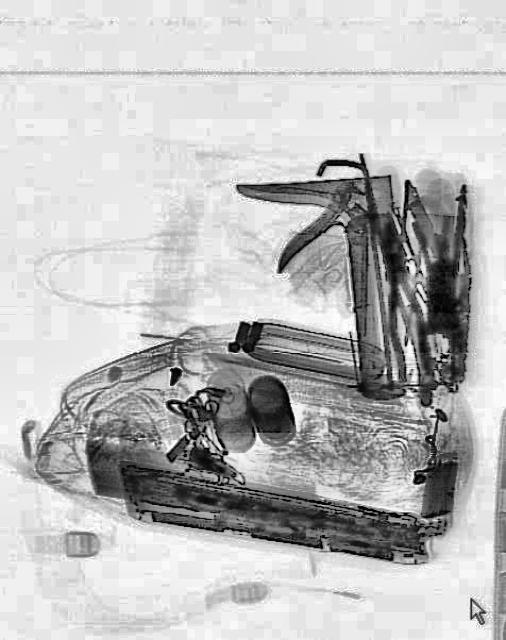Knife: (233, 170, 407, 392)
Pliers: (369, 213, 433, 385)
